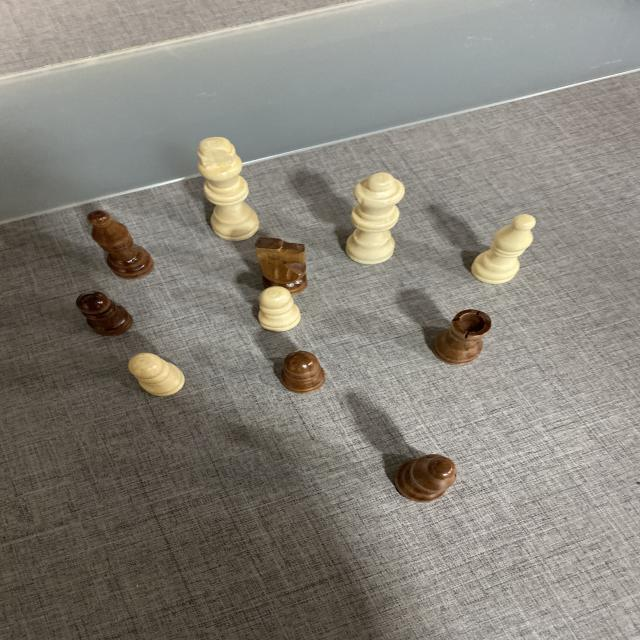Black-Bishop: (84, 210, 156, 280), (394, 453, 460, 504)
Black-Knight: (254, 236, 312, 294)
Black-Pawn: (76, 290, 136, 338), (278, 350, 327, 394)
Black-Rook: (433, 308, 493, 366)
White-Bishop: (469, 212, 540, 284)
White-King: (196, 137, 262, 241)
White-Pawn: (125, 352, 188, 399), (257, 285, 302, 333)
White-Queen: (344, 172, 409, 266)
